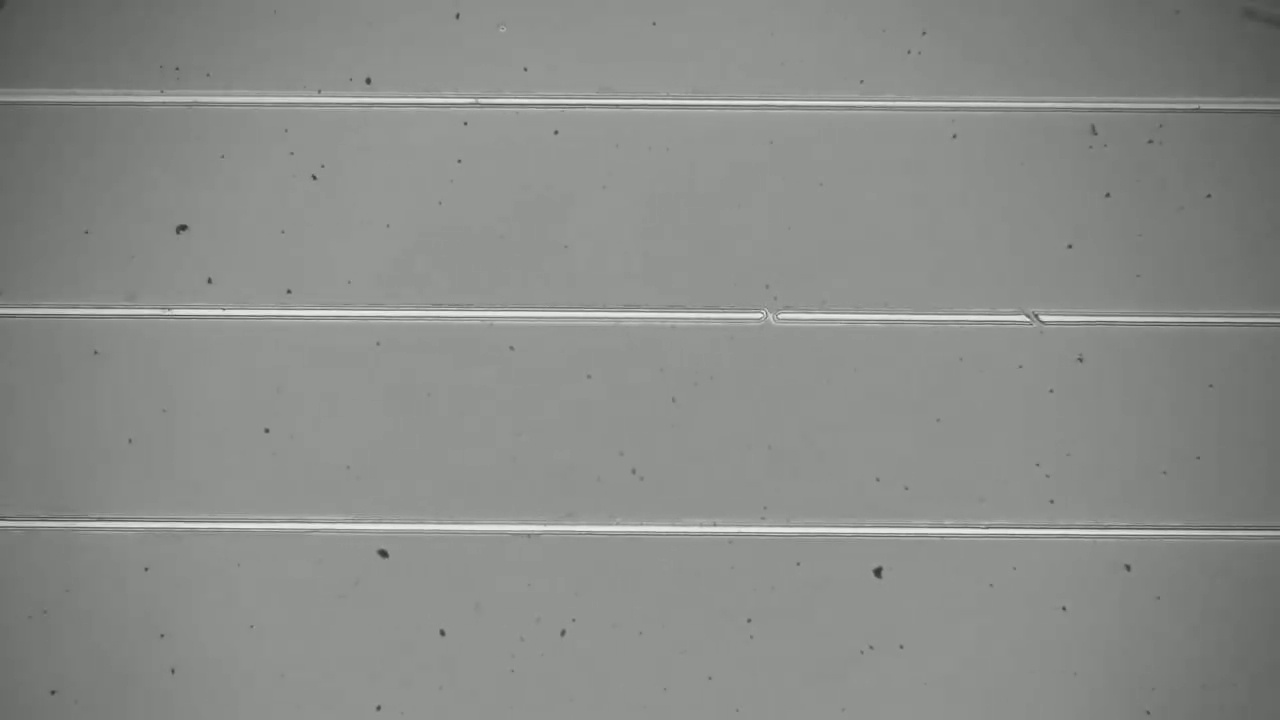open: (746, 292, 793, 333), (1012, 298, 1052, 336)
